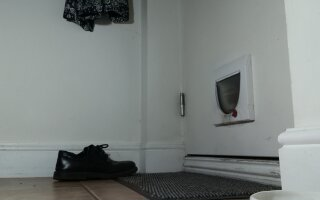shoe: (56, 147, 138, 176)
